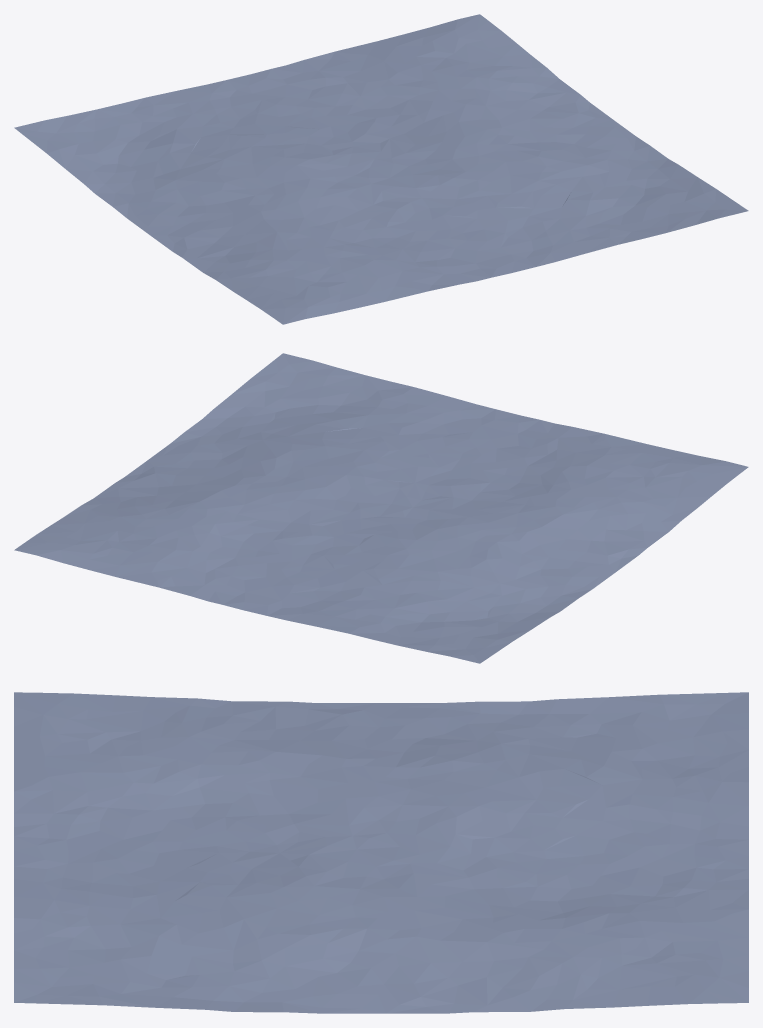
Rendered from waterPlane2.fbx.
3 views of the same model, one above another, from view 1: azimuth 30°, elevation 25°; view 2: azimuth 150°, elevation 25°; view 3: azimuth 270°, elevation 25° (orthographic). The views are drawn at different scales.
Visible parts, largest first — view 1: waterPlane2; view 2: waterPlane2; view 3: waterPlane2.
Boxes of the visible parts, x1=… form: waterPlane2: x1=14, y1=14, x2=748, y2=324; waterPlane2: x1=14, y1=353, x2=748, y2=663; waterPlane2: x1=14, y1=692, x2=748, y2=1013.
Size of the model in its own units: 4300 by 78.44 by 4300.
